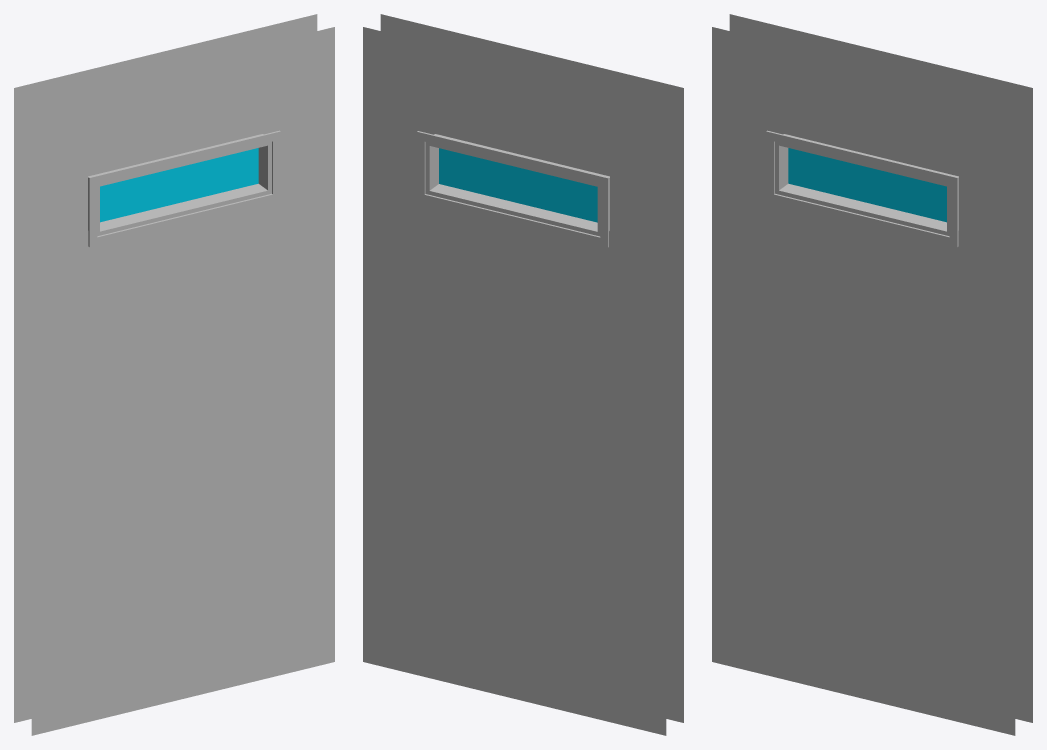
The model's file is kitchenWindow_001.FBX.
The picture shows the model from 3 angles, left to right: view 1: azimuth 30°, elevation 25°; view 2: azimuth 150°, elevation 25°; view 3: azimuth 330°, elevation 25°; orthographic projection.
Visible parts, largest first — view 1: wall_4x2_005; view 2: wall_4x2_005; view 3: wall_4x2_005.
Part boxes in pixels (left/top/right/bottom): wall_4x2_005: left=14, top=14, right=334, bottom=735; wall_4x2_005: left=363, top=14, right=683, bottom=735; wall_4x2_005: left=712, top=14, right=1032, bottom=735.
Bounding box in the file's own units: 78.74 × 9.76 × 157.
